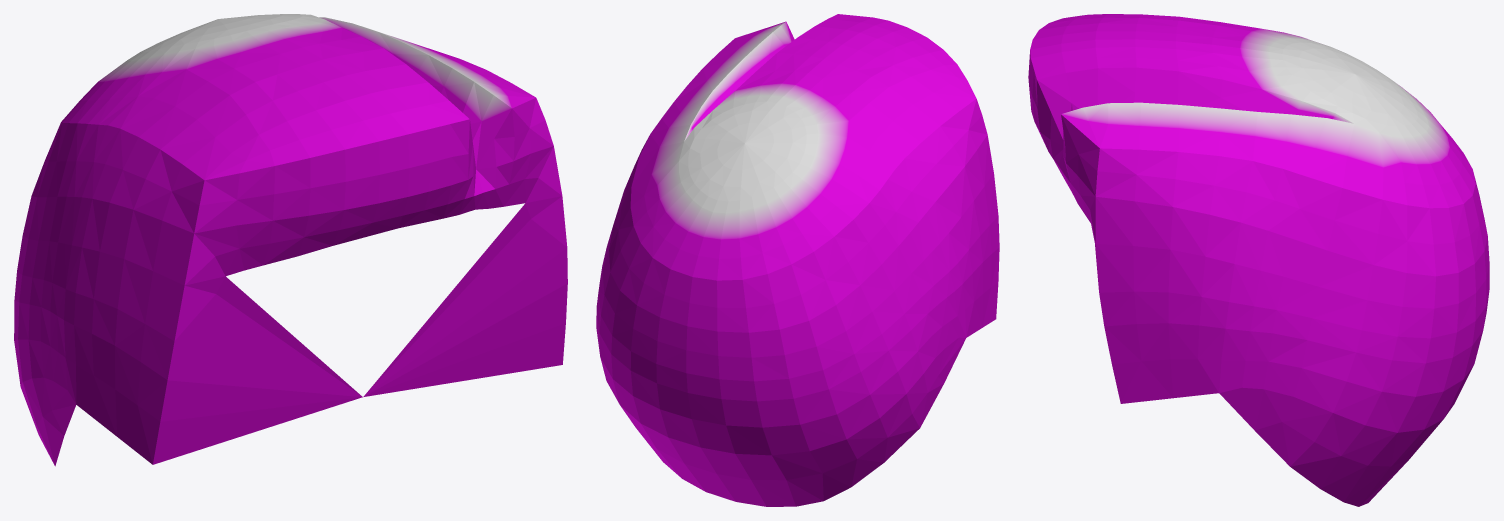
File: hair_40.glb
3 renders of one model, left to right at view 1: azimuth 30°, elevation 25°; view 2: azimuth 150°, elevation 25°; view 3: azimuth 270°, elevation 25°, orthographic. The views are drawn at different scales.
Parts seen in each view (by area): view 1: shape; view 2: shape; view 3: shape.
Part boxes in pixels (left/top/right/bottom): shape: left=14, top=14, right=567, bottom=466; shape: left=596, top=14, right=999, bottom=506; shape: left=1028, top=14, right=1489, bottom=506.
Bounding box in the file's own units: 52.6 × 59.03 × 56.26.
